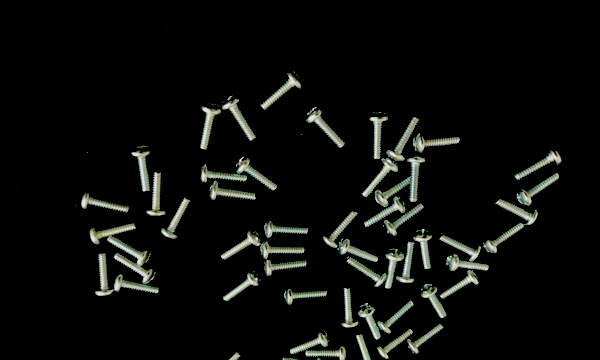shortscrew: (260, 69, 304, 111), (306, 105, 347, 149), (221, 94, 256, 142), (235, 155, 279, 192), (387, 115, 421, 162), (362, 156, 399, 199), (515, 148, 563, 180), (323, 208, 360, 249), (516, 172, 561, 205), (113, 252, 156, 286), (107, 234, 151, 267), (383, 202, 424, 237), (483, 221, 525, 255), (160, 196, 192, 240), (220, 228, 262, 261), (364, 196, 407, 228), (378, 299, 416, 335), (494, 198, 539, 227), (437, 232, 482, 261), (347, 256, 387, 288), (198, 100, 223, 151), (80, 187, 129, 213), (439, 269, 480, 300), (223, 270, 262, 302), (407, 322, 444, 355), (376, 328, 414, 360), (289, 329, 332, 356), (338, 237, 379, 265), (89, 223, 138, 246), (374, 177, 410, 207), (199, 163, 248, 185), (367, 111, 389, 160), (405, 153, 427, 202), (131, 144, 152, 193), (146, 169, 167, 218), (420, 281, 446, 320), (209, 180, 257, 201), (412, 133, 461, 153), (94, 253, 116, 297), (284, 284, 328, 306), (264, 218, 310, 239), (383, 248, 406, 290), (114, 274, 159, 295), (261, 240, 306, 261), (356, 303, 381, 340), (397, 241, 417, 286), (262, 259, 309, 278), (446, 253, 489, 273), (339, 287, 359, 329), (414, 229, 433, 270), (306, 344, 348, 360), (356, 332, 378, 360), (206, 349, 243, 360), (283, 354, 324, 360)
